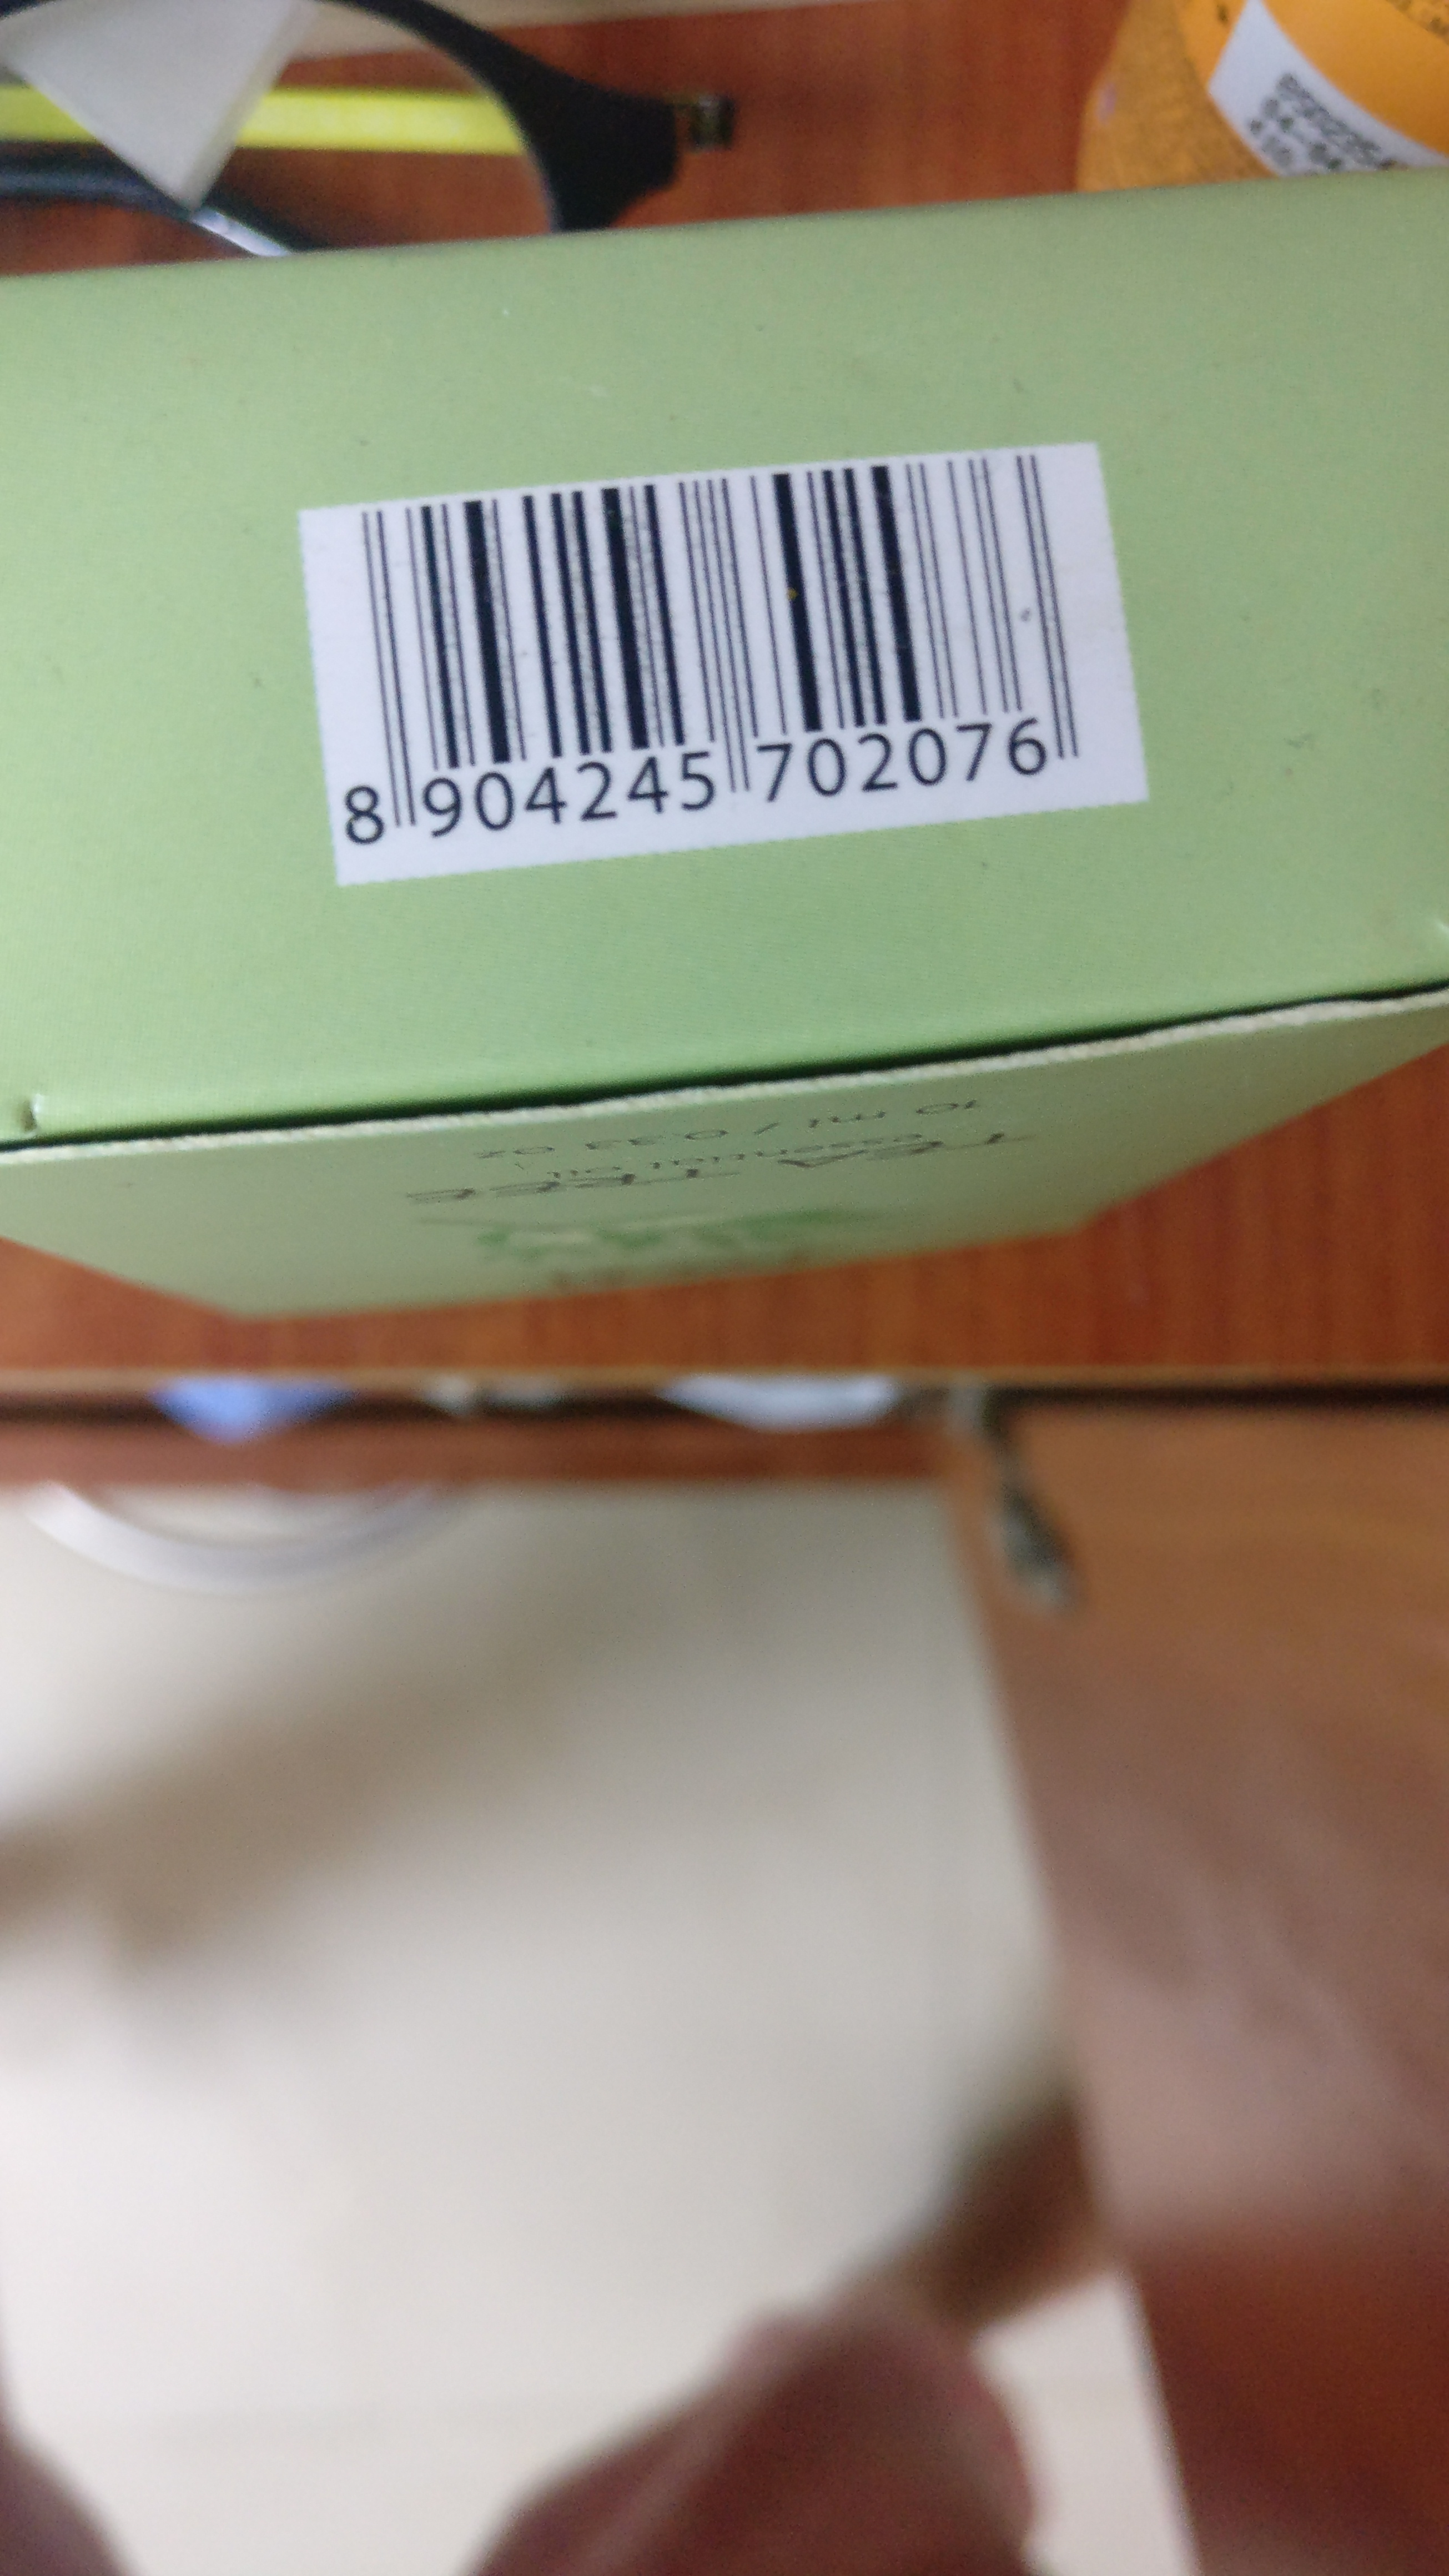barcode: (281, 474, 1129, 847)
